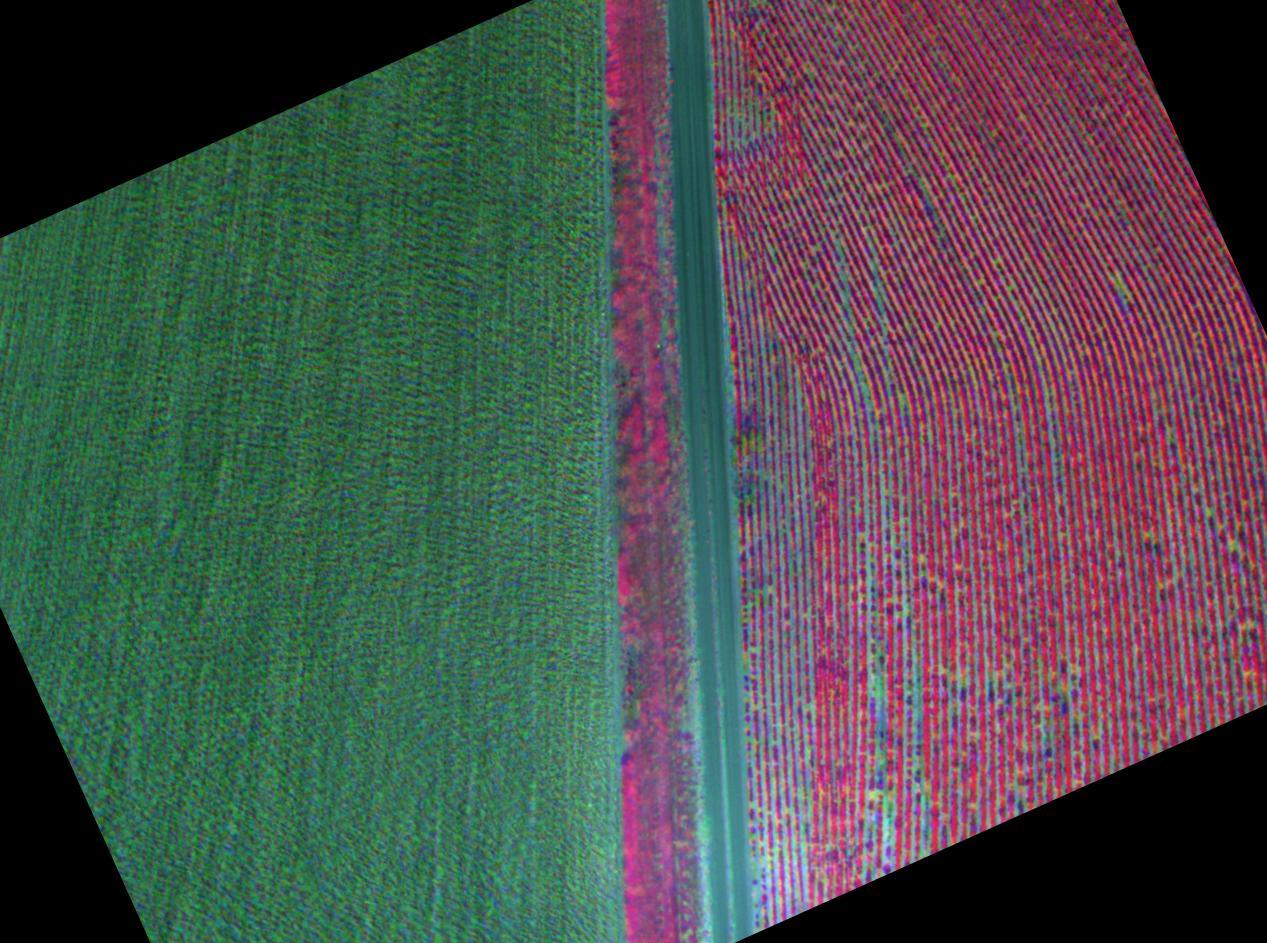dc: (883, 829, 888, 835), (993, 674, 997, 679), (1234, 544, 1238, 548), (902, 612, 906, 616), (874, 793, 877, 798), (1040, 706, 1043, 710), (951, 176, 954, 179), (1008, 287, 1011, 290), (1149, 533, 1152, 536)
